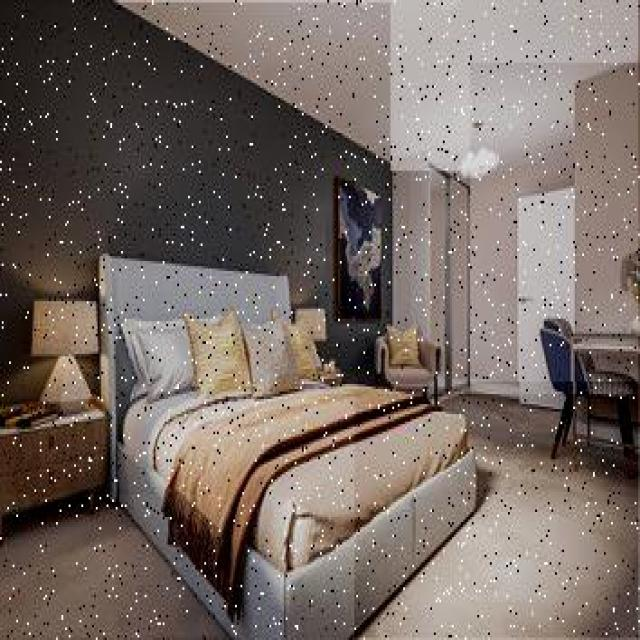Wall: (0, 3, 391, 399), (118, 1, 638, 171), (355, 394, 640, 637), (471, 64, 638, 381), (0, 495, 224, 637)
